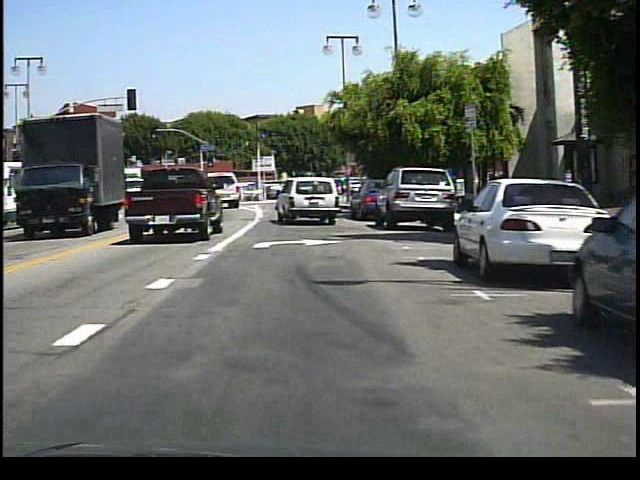person: (335, 180, 350, 205)
